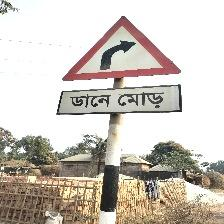Right-turn: (58, 16, 184, 116)
